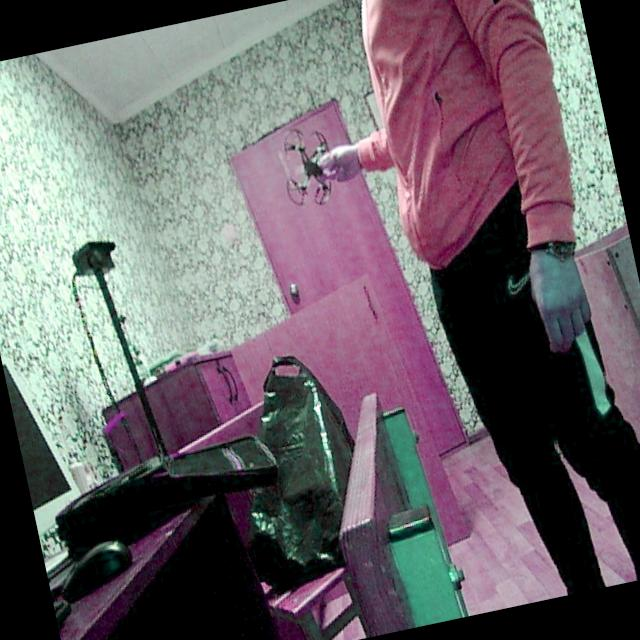drone: (274, 109, 353, 222)
